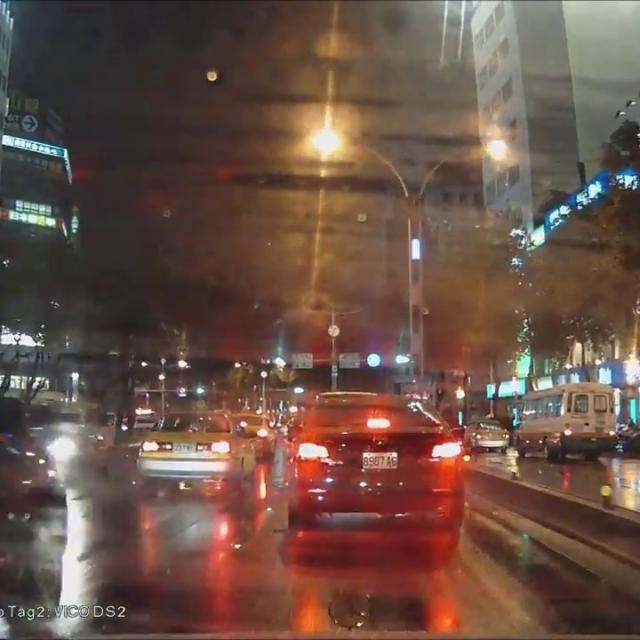Car: (280, 387, 469, 536), (0, 390, 74, 622), (132, 406, 256, 497), (39, 399, 115, 484), (227, 410, 280, 464), (461, 412, 511, 455)
